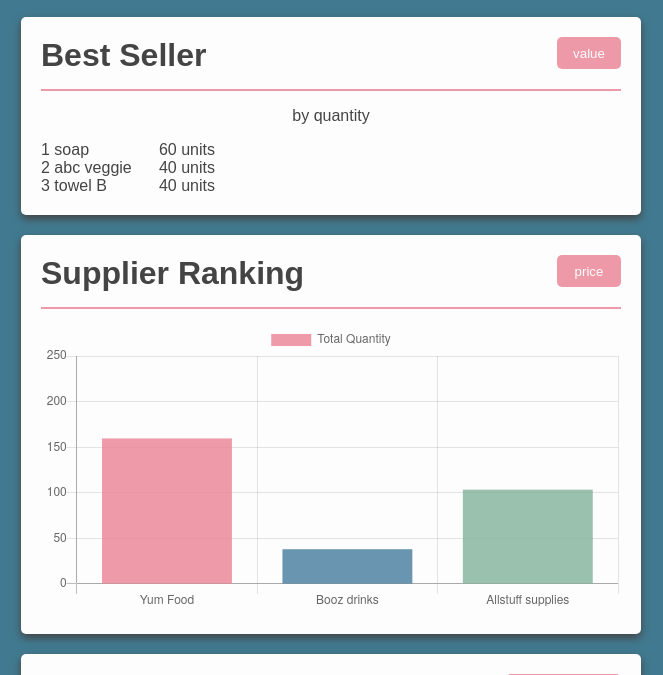
dashboard › toggles top3 card between quantity and value
Expected: the text "by quantity" is shown, [292,107,370,124]
Click the button with test id "top3-toggle-button": (589, 53) [557,37,621,69]
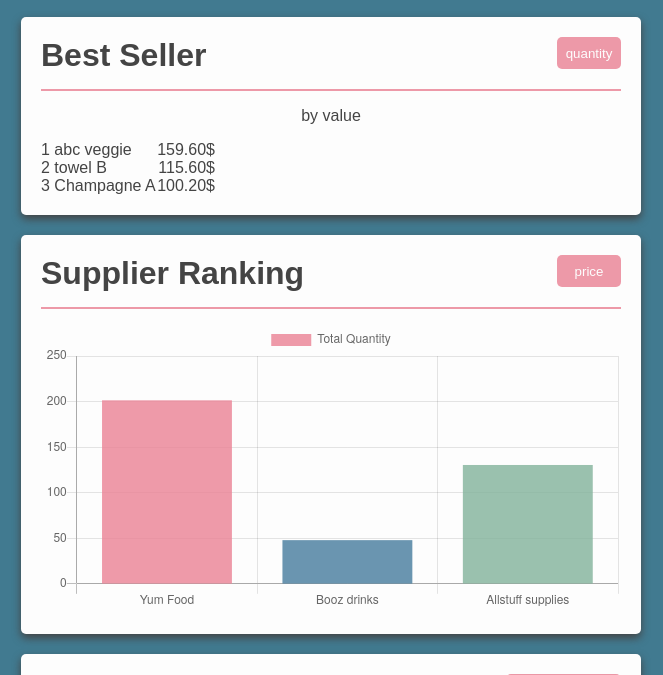
Now the text "by value" is shown, box [301,107,361,124]
